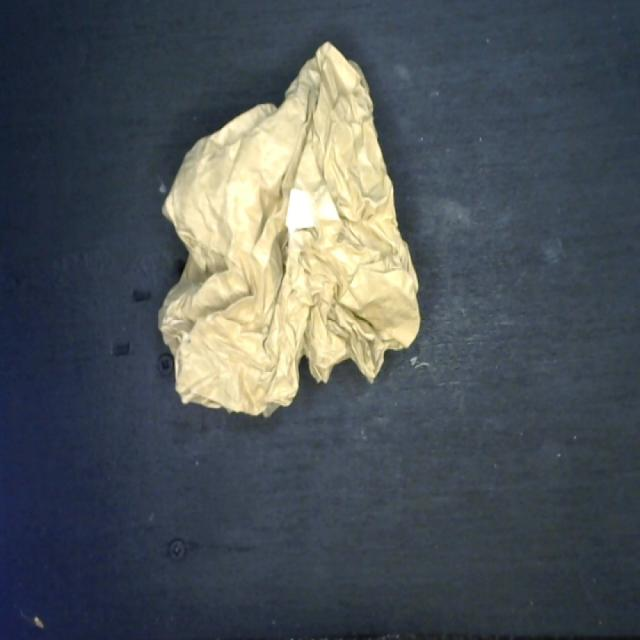biodegradable: (156, 34, 424, 423)
